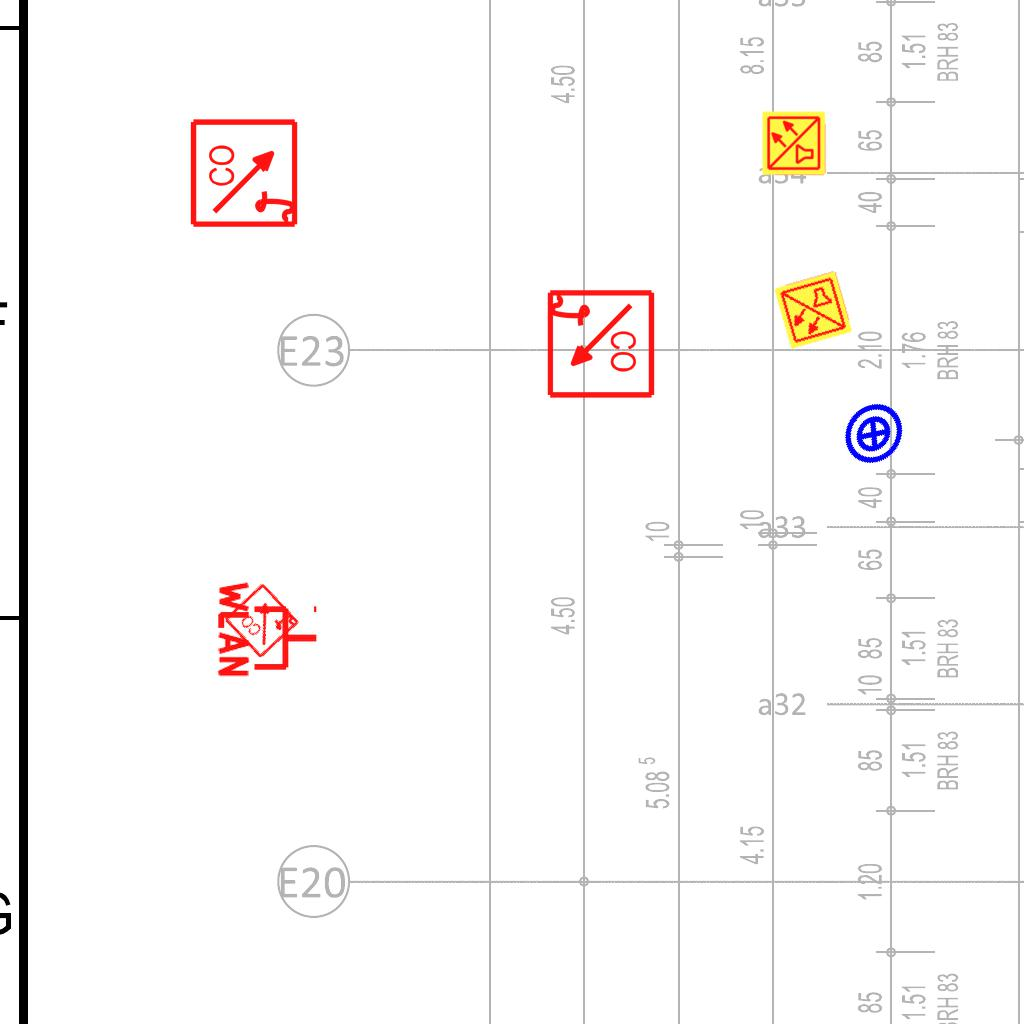OKW_Multisensormelder_(Kombination_optischer_Rauch-Kahlenmonoxid_Waerme-Melder): (772, 269, 854, 351), (761, 110, 827, 176)
ROA_Rauchmelder_optisch_mit_Signalgeber_(Sockelsirene): (189, 116, 302, 229), (543, 288, 656, 401), (222, 580, 302, 660)
Taster_beleuchtet: (827, 387, 921, 481)
WLAN: (216, 577, 321, 681)
